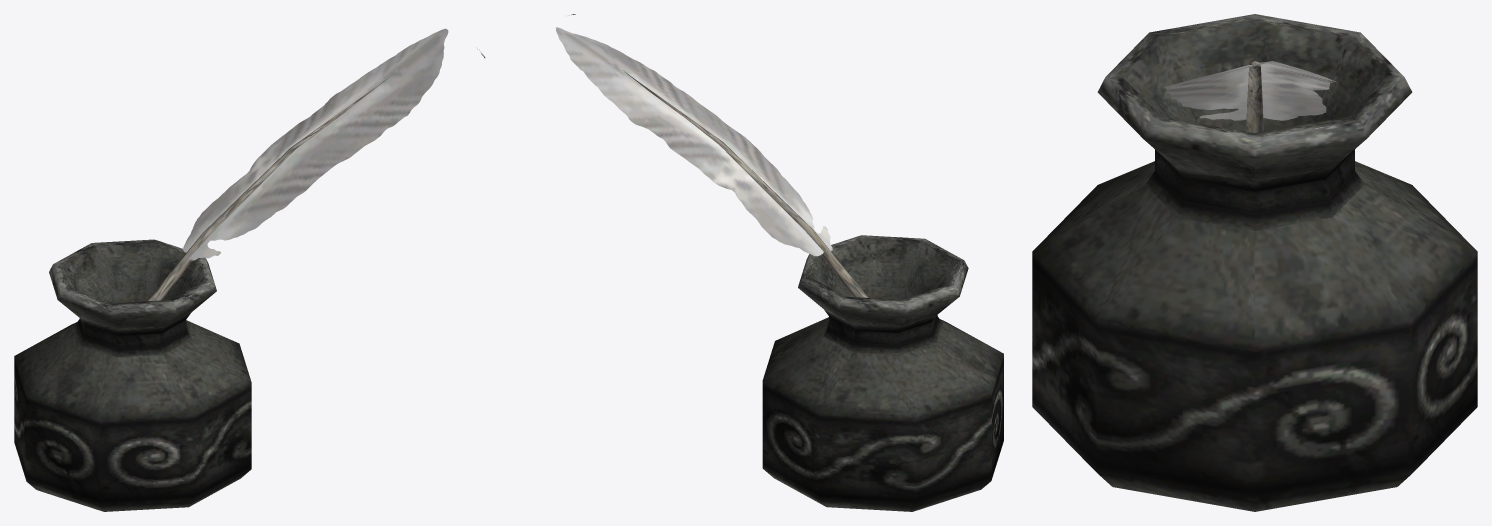
Rendered from ink_bottle.dae.
3 renders of one model, left to right at view 1: azimuth 30°, elevation 25°; view 2: azimuth 150°, elevation 25°; view 3: azimuth 270°, elevation 25°, orthographic. The views are drawn at different scales.
Visible parts, largest first — view 1: polySurface8; view 2: polySurface8; view 3: polySurface8.
Part boxes in pixels (<box>): polySurface8: <box>14,28,485,511</box>; polySurface8: <box>556,14,1003,511</box>; polySurface8: <box>1032,14,1477,511</box>.
Bounding box in the file's own units: 0.3059 × 0.2436 × 0.15.
